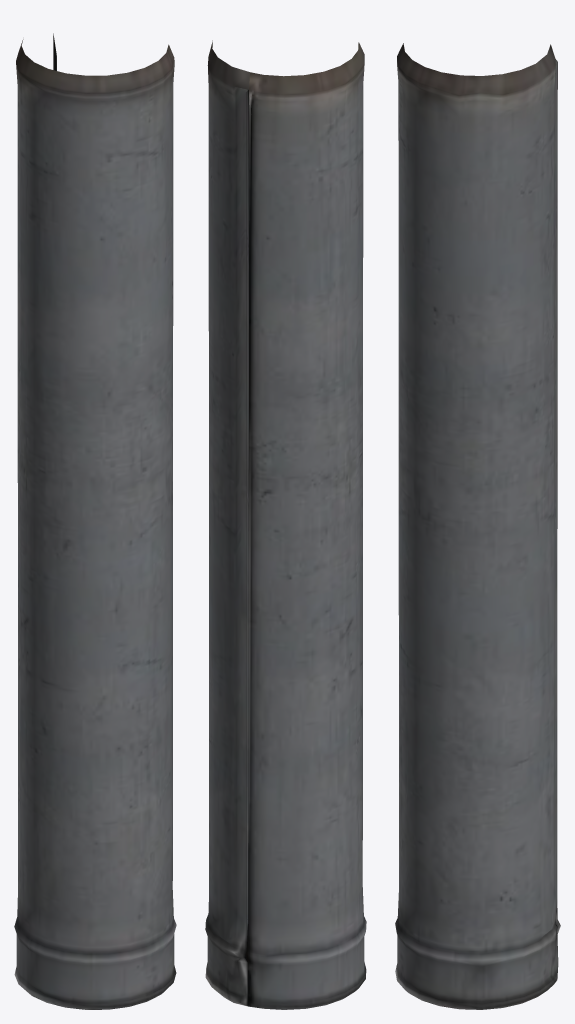
The model's file is modular-metal-gutter-downpipe.glb.
3 renders of one model, left to right at view 1: azimuth 30°, elevation 25°; view 2: azimuth 150°, elevation 25°; view 3: azimuth 270°, elevation 25°, orthographic.
Parts seen in each view (by area): view 1: modular_metal_gutter_downpipe; view 2: modular_metal_gutter_downpipe; view 3: modular_metal_gutter_downpipe.
Boxes of the visible parts, bbox=[...] form: modular_metal_gutter_downpipe: bbox=[14, 33, 176, 1009]; modular_metal_gutter_downpipe: bbox=[205, 40, 366, 1009]; modular_metal_gutter_downpipe: bbox=[395, 43, 560, 1009].
Bounding box in the file's own units: 0.1573 × 0.9998 × 0.161.
1 material, 1 textured.
